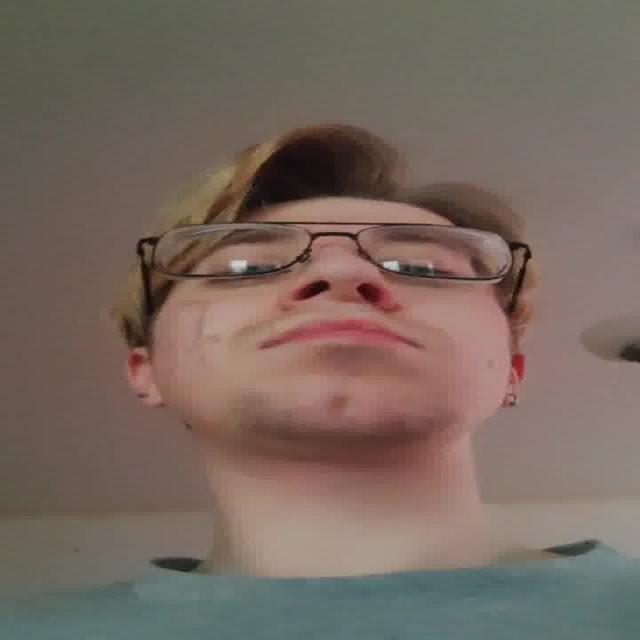earlobe: (133, 386, 169, 409), (495, 390, 519, 411)
eye: (386, 260, 469, 282), (198, 263, 287, 281)
nose: (285, 291, 396, 323)
wholeear: (124, 346, 168, 408), (496, 348, 532, 411)
